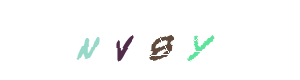8: (110, 0, 190, 80)
N: (72, 0, 152, 80)
V: (108, 0, 188, 80)
Y: (160, 0, 240, 80)
